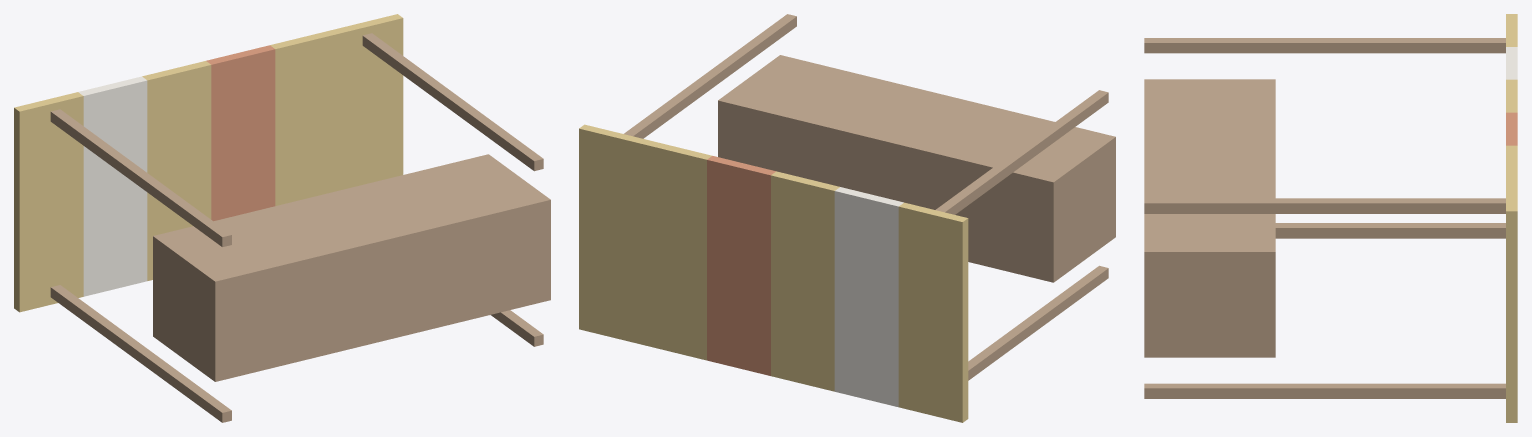
Rendered from fruit_stall.glb.
3 renders of one model, left to right at view 1: azimuth 30°, elevation 25°; view 2: azimuth 150°, elevation 25°; view 3: azimuth 270°, elevation 25°, orthographic. The views are drawn at different scales.
Parts seen in each view (by area): view 1: counter, canopy_0, canopy_1, canopy_4, canopy_3, canopy_5, canopy_2, post_3, post_2, post_0, post_1; view 2: counter, canopy_0, canopy_1, canopy_2, canopy_4, canopy_5, canopy_3, post_2, post_3, post_0; view 3: counter, post_1, post_2, post_3, post_0, canopy_5, canopy_2, canopy_3, canopy_4, canopy_0, canopy_1.
Part boxes in pixels (x1,y1,x2,y2): counter: (153,154,550,381); canopy_0: (14,92,83,312); canopy_1: (78,76,147,296); canopy_4: (270,29,339,205); canopy_3: (206,45,275,221); canopy_5: (334,14,403,190); canopy_2: (142,61,211,280); post_3: (362,33,543,171); post_2: (50,109,231,247); post_0: (50,285,231,422); post_1: (491,310,543,346); counter: (718,55,1115,282); canopy_0: (898,202,968,422); canopy_1: (834,187,903,407); canopy_2: (771,171,839,391); canopy_4: (643,140,711,360); canopy_5: (579,124,647,344); canopy_3: (707,156,775,375); post_2: (935,90,1108,214); post_3: (624,14,796,138); post_0: (968,265,1108,380); counter: (1144,79,1275,357); post_1: (1144,383,1505,398); post_2: (1144,38,1505,53); post_3: (1144,198,1505,213); post_0: (1275,223,1505,238); canopy_5: (1506,178,1517,422); canopy_2: (1506,79,1517,112); canopy_3: (1506,112,1517,145); canopy_4: (1506,145,1517,178); canopy_0: (1506,14,1517,46); canopy_1: (1506,47,1517,79).
Bounding box in the file's own units: 3.2 × 1.6 × 2.56.
